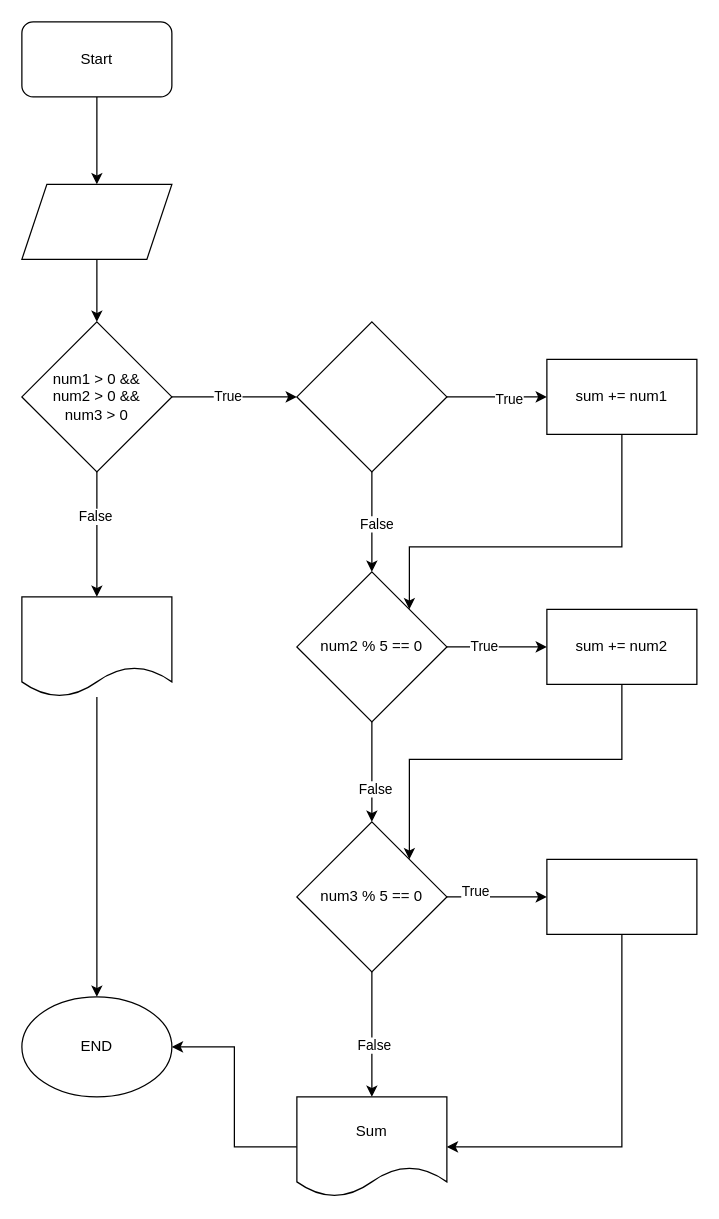
The diagram is 719 pixels wide and 1219 high, and some of its shapes have lost their labels. Here are the shapes that lost their labels. From the top down, the box of each, then its label:
(21, 183, 172, 259): int num1 int num2 int num3 int sum
(296, 321, 447, 472): num1 % 5 == 0
(21, 596, 172, 697): One or More Number is Negative
(546, 858, 697, 934): sum += num3
